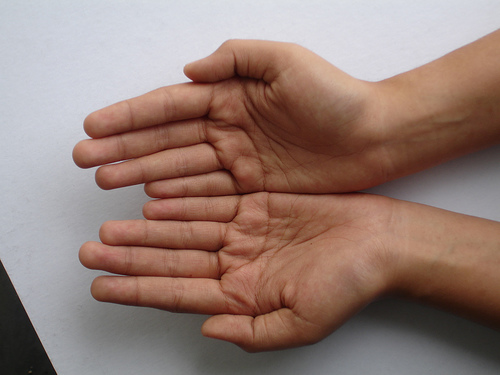palm: (229, 193, 381, 316), (214, 74, 352, 187)
